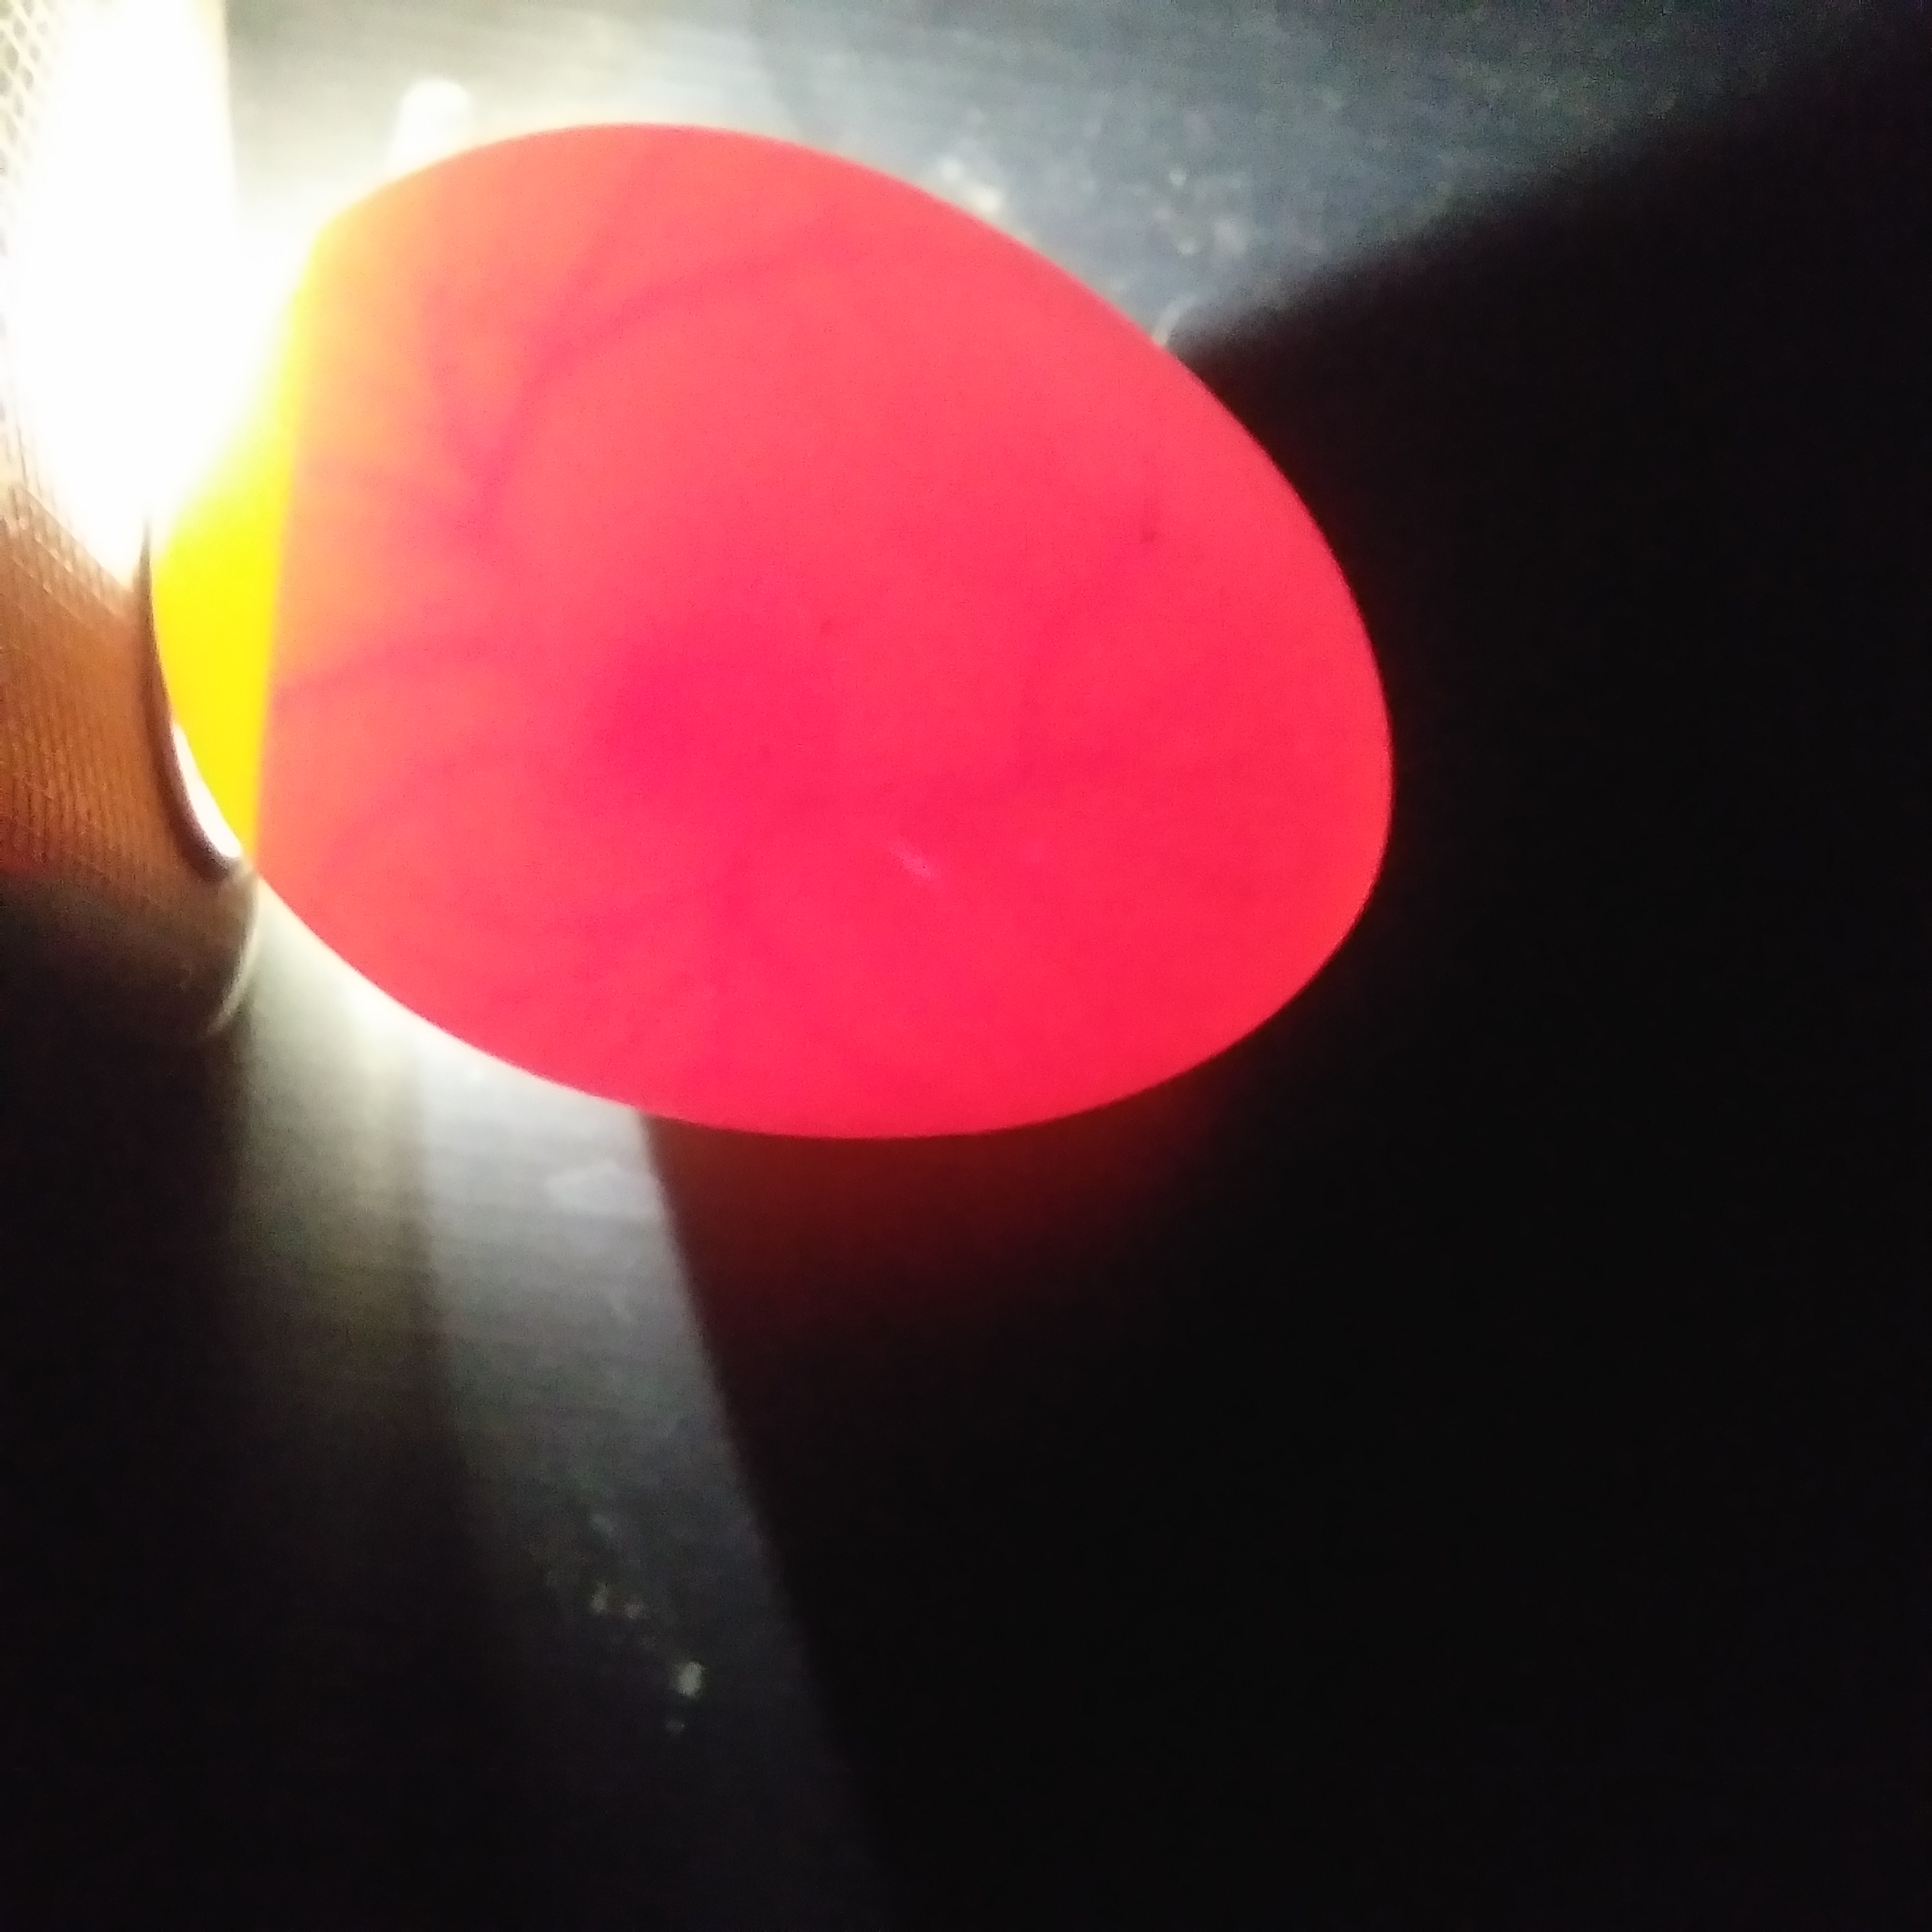bloodcell: (281, 234, 525, 901), (978, 706, 1267, 1016), (552, 228, 856, 407)
